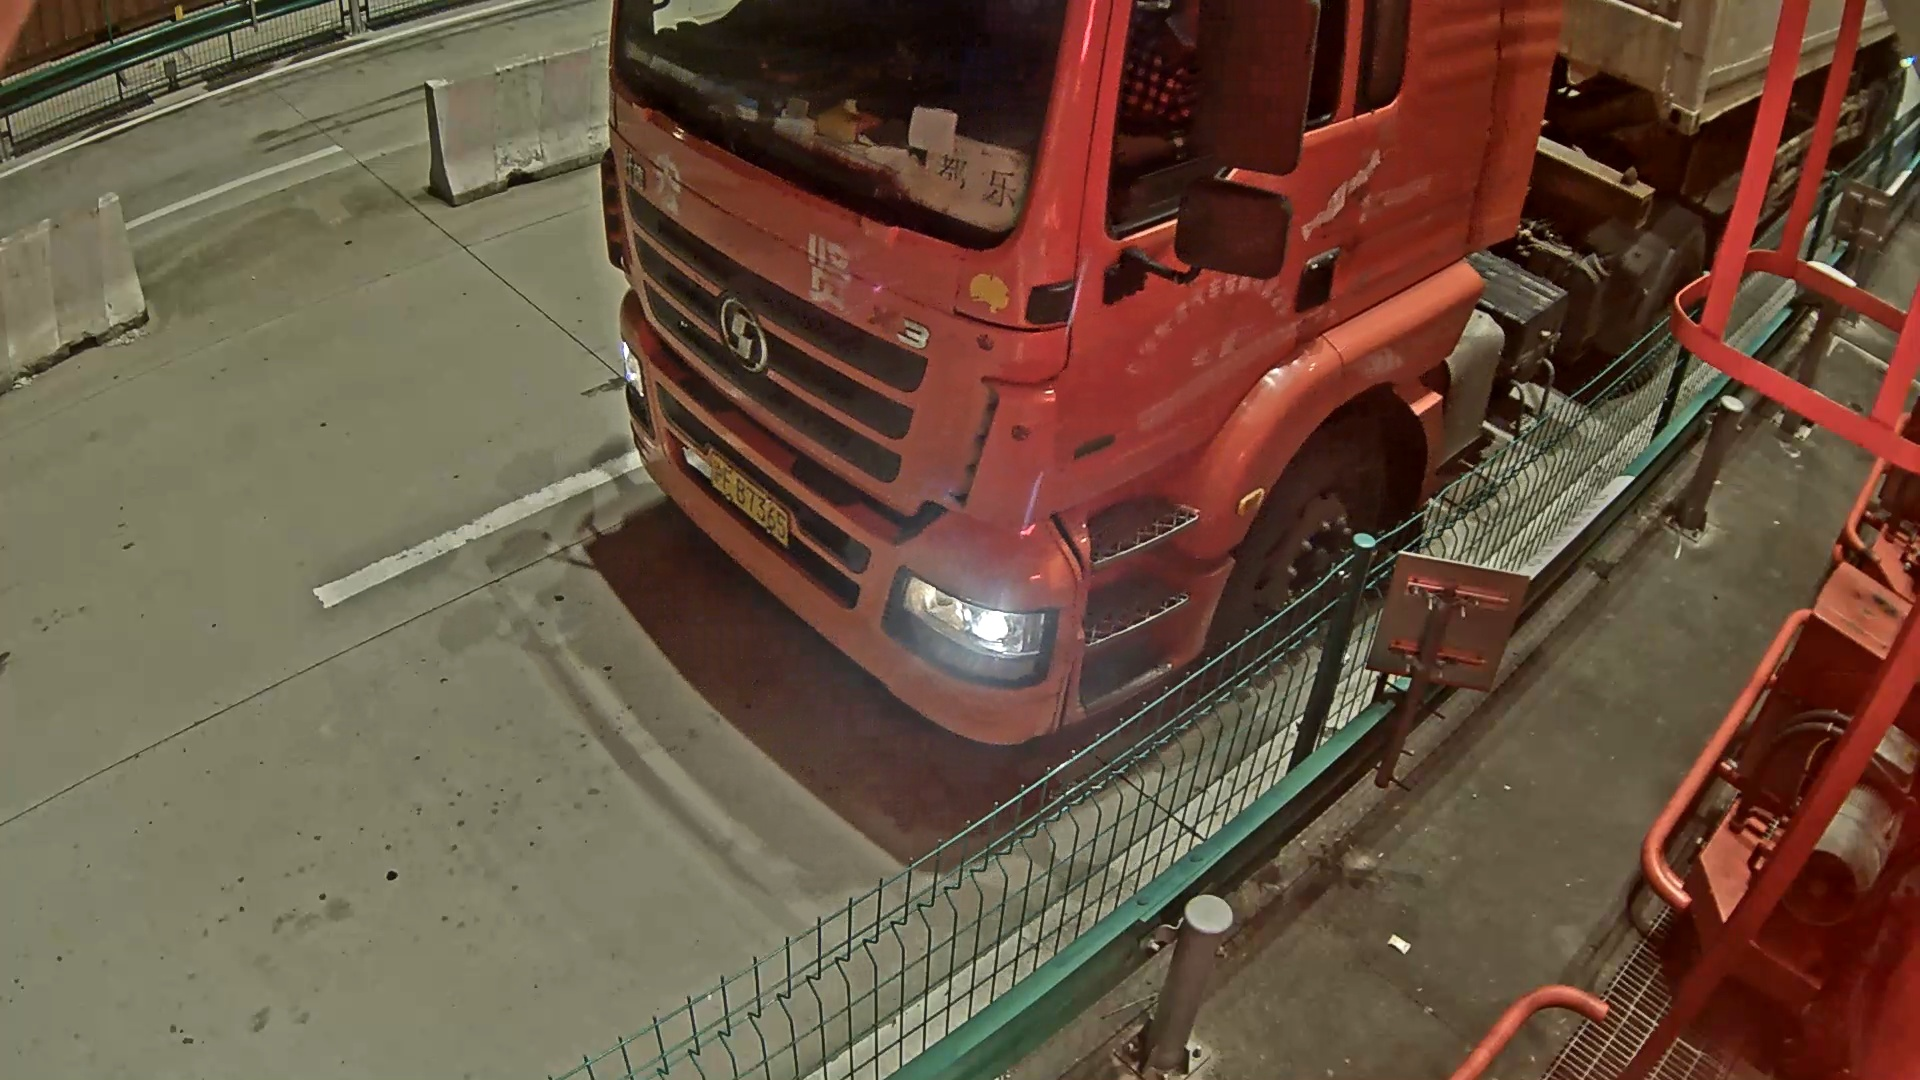head: (604, 1, 1564, 743)
plate: (705, 444, 789, 544)
